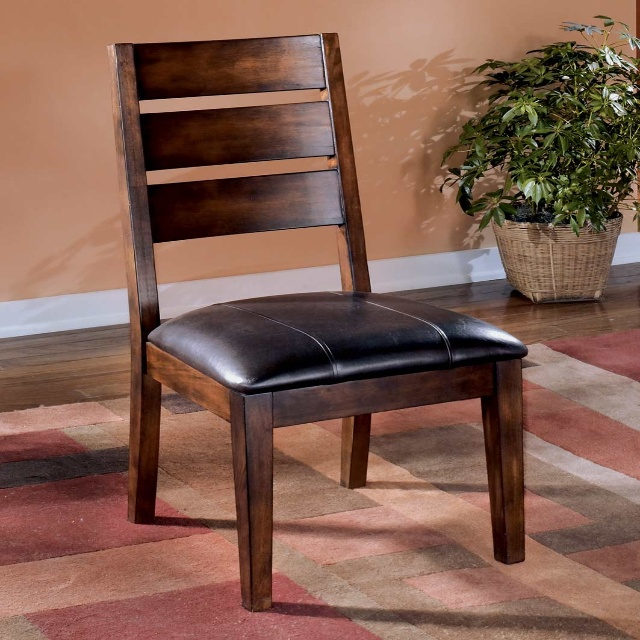obstacle: (111, 33, 526, 611)
